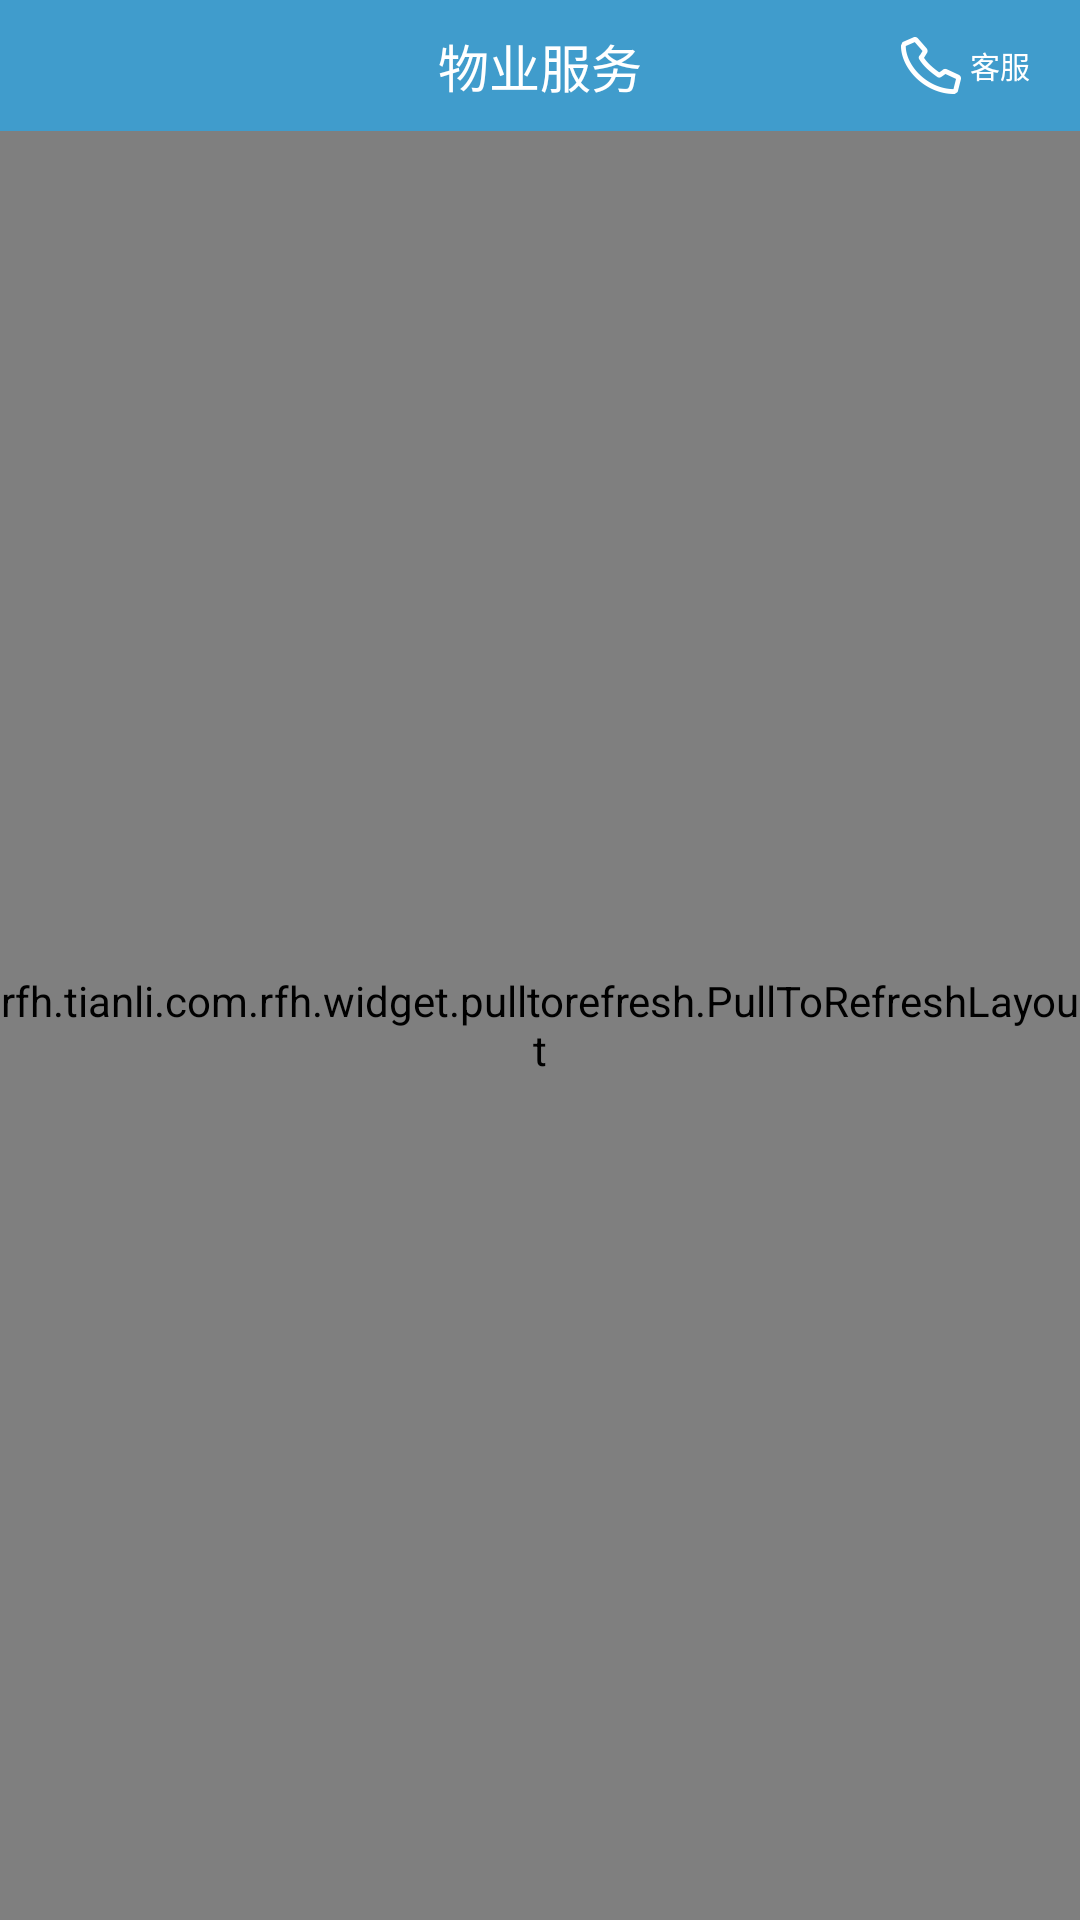

Point at icon controls on the screen. Image size 1080px x 1920px, points as [x,y].
phone: [931,65]
